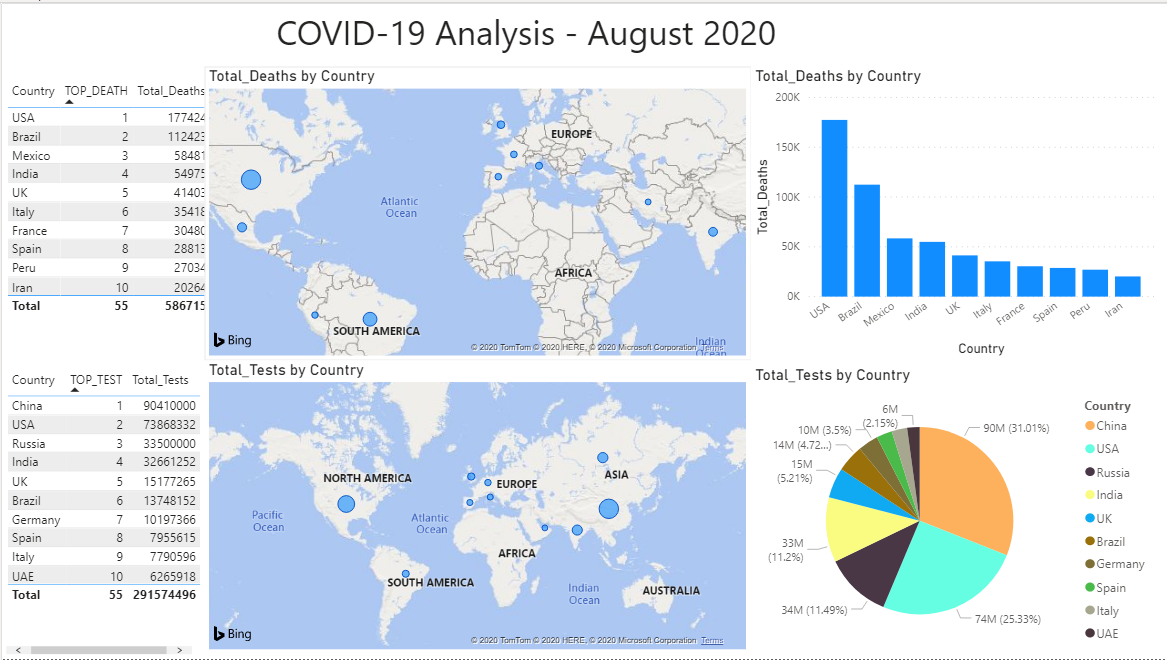

Layout of this report page (visuals, bound fields, positions):
{"tool":"powerbi","page":{"name":"Page 1","canvas":[1280,720],"ordinal":0},"visuals":[{"type":"tableEx","fields":{"Values":["covid-output.Country","Sum(covid-output.TOP_DEATH)","Sum(covid-output.Total_Deaths)"]},"box":[0,79.7,239,280.2],"z":0},{"type":"textbox","box":[296.7,0,571.3,68.7],"z":1},{"type":"map","fields":{"Category":["covid-output.Country"],"Size":["Sum(covid-output.Total_Deaths)"]},"box":[222.5,68.7,600.2,322.7],"z":2},{"type":"tableEx","fields":{"Values":["covid-output.Country","Sum(covid-output.TOP_TEST)","Sum(covid-output.Total_Tests)"]},"box":[0,396.9,222.5,322.7],"z":3},{"type":"map","fields":{"Category":["covid-output.Country"],"Size":["Sum(covid-output.Total_Tests)"]},"box":[222.5,391.4,600.2,322.7],"z":4},{"type":"pieChart","fields":{"Category":["covid-output.Country"],"Y":["Sum(covid-output.Total_Tests)"]},"box":[822.7,396.9,447.7,322.7],"z":5},{"type":"columnChart","fields":{"Category":["covid-output.Country"],"Y":["Sum(covid-output.Total_Deaths)"]},"box":[823,69,448,323],"z":6}]}

Visuals, with their boxes in screenshot pixels (x1, y1, x2, y2), scaled from the page's 1280x720 canvas onto the 1167x660 screenshot:
tableEx - covid-output.Country x Sum(covid-output.TOP_DEATH): (left=0, top=73, right=218, bottom=330)
textbox: (left=271, top=0, right=791, bottom=63)
map - covid-output.Country x Sum(covid-output.Total_Deaths): (left=203, top=63, right=750, bottom=359)
tableEx - covid-output.Country x Sum(covid-output.TOP_TEST): (left=0, top=364, right=203, bottom=659)
map - covid-output.Country x Sum(covid-output.Total_Tests): (left=203, top=359, right=750, bottom=655)
pieChart - covid-output.Country x Sum(covid-output.Total_Tests): (left=750, top=364, right=1158, bottom=659)
columnChart - covid-output.Country x Sum(covid-output.Total_Deaths): (left=750, top=63, right=1159, bottom=359)
